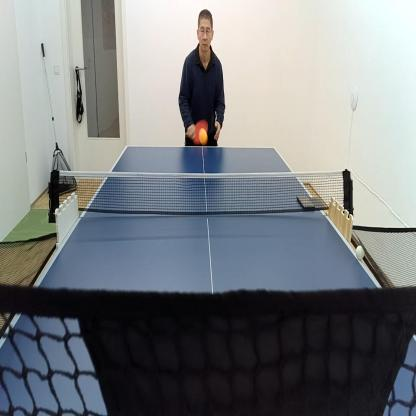Ball: (355, 243, 366, 263), (198, 127, 208, 145)
